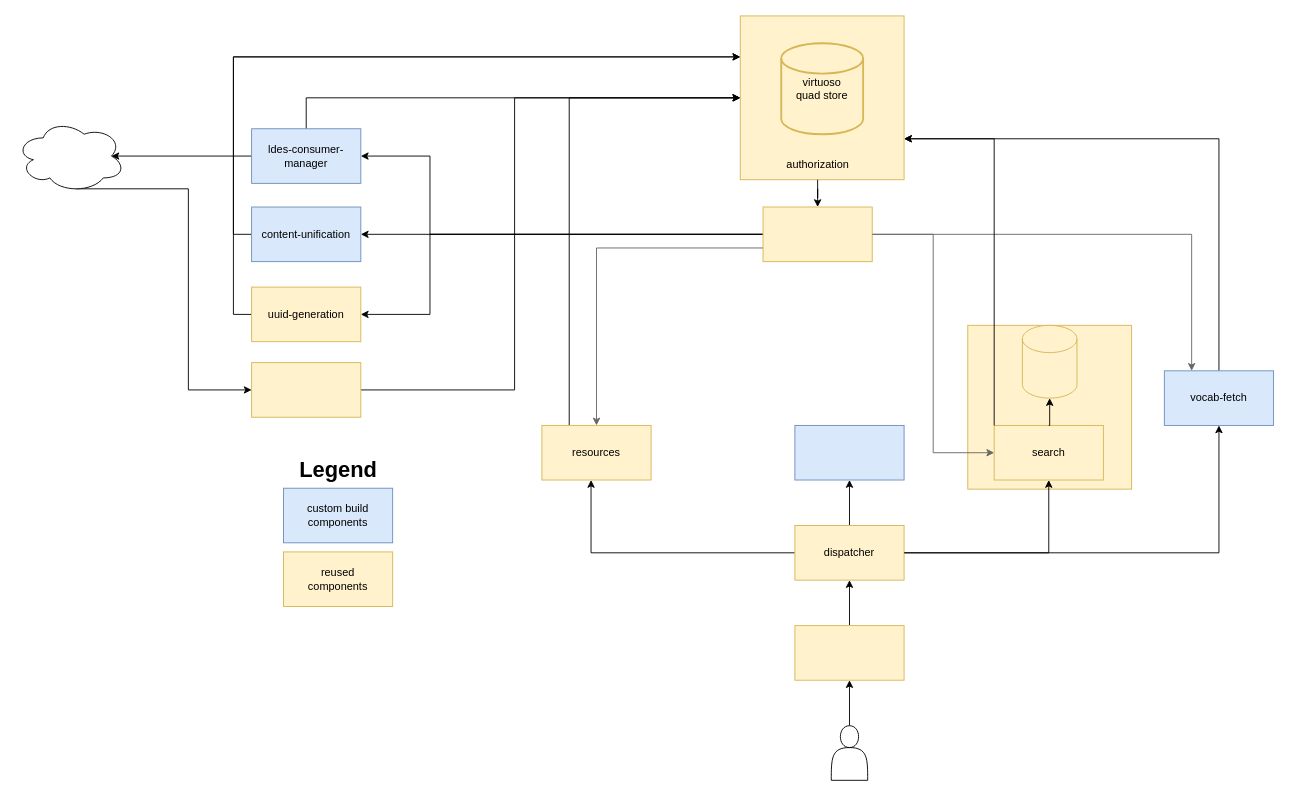
This 1289x796 diagram has some shape labels left out. Each missing label, with the centre of its shape:
deltanotifier: point 817,234
docker daemon: point 70,155
elastic: point 1049,361
frontend: point 849,452
identifier: point 849,652
ldes-consumer: point 306,389
